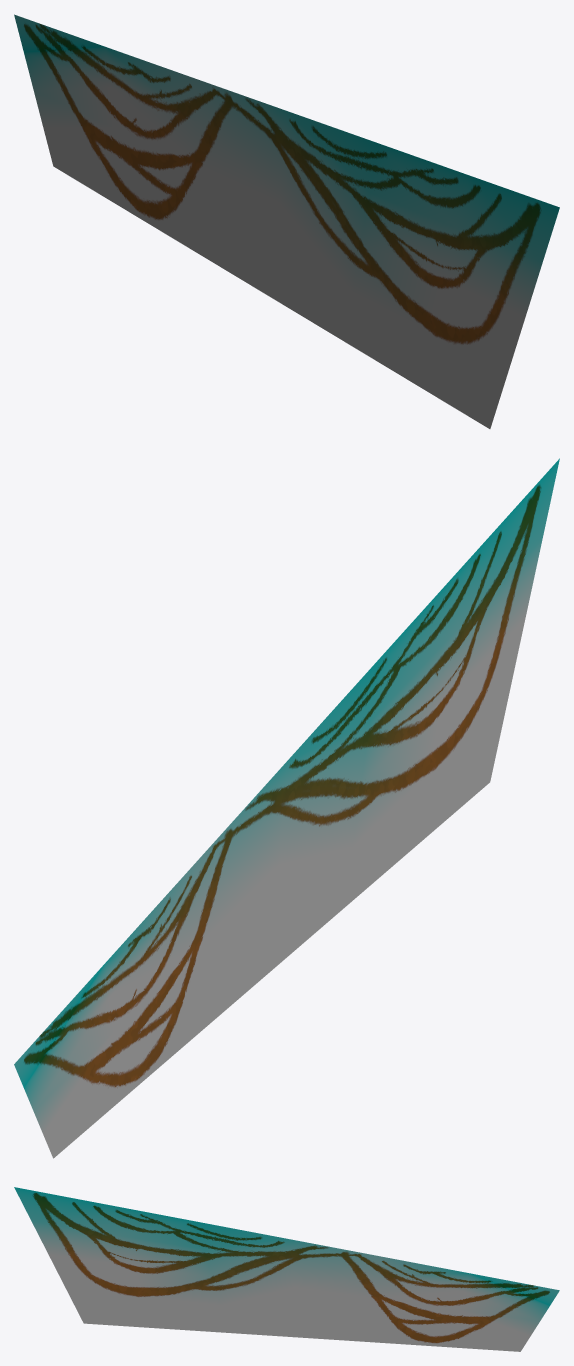
File: SM_Rope_A03.gltf
3 views of the same model, one above another, from view 1: azimuth 30°, elevation 25°; view 2: azimuth 150°, elevation 25°; view 3: azimuth 270°, elevation 25° (orthographic). The views are drawn at different scales.
Parts seen in each view (by area): view 1: SM_Rope_A03_LOD0; view 2: SM_Rope_A03_LOD0; view 3: SM_Rope_A03_LOD0.
Boxes of the visible parts, x1,y1,x2,y2 form: SM_Rope_A03_LOD0: (14, 14, 559, 428); SM_Rope_A03_LOD0: (14, 458, 559, 1158); SM_Rope_A03_LOD0: (14, 1187, 559, 1351).
Size of what is drawn, in the model's own units: 5.04e-07 by 2.98 by 8.95.
Materials: 1 (1 with a texture image).
